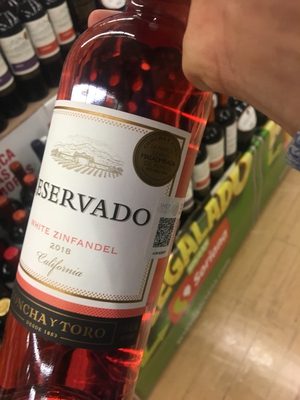reservado white zinfandel: (20, 12, 183, 400)
